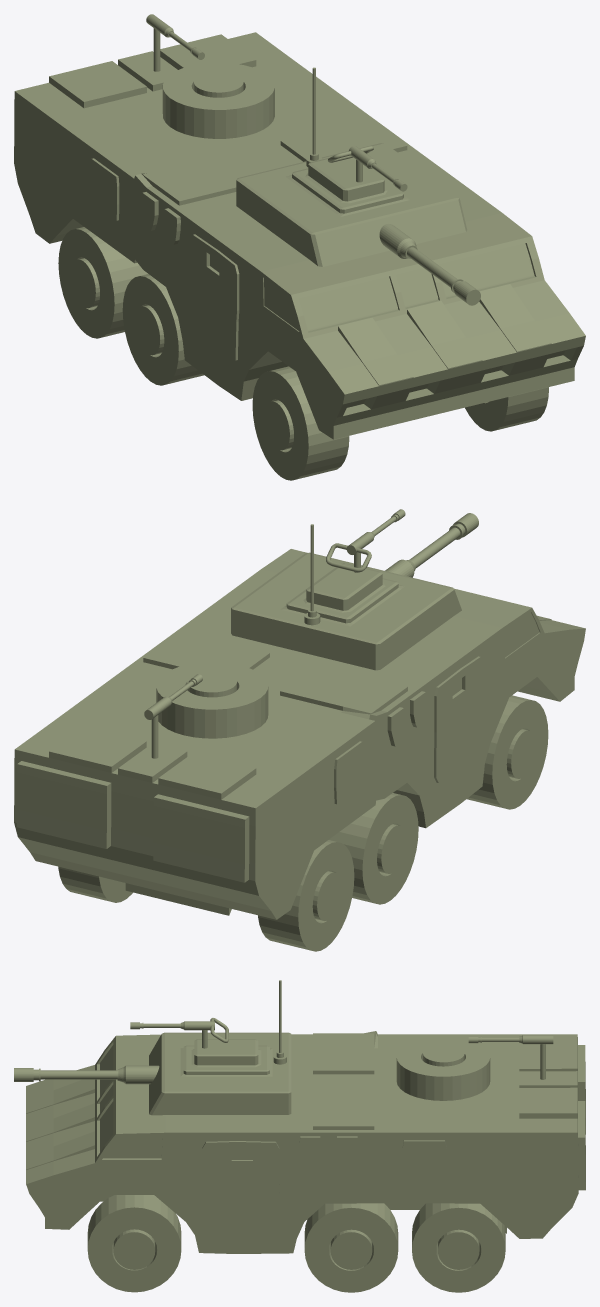
The model's file is ifv.glb.
3 views of the same model, one above another, from view 1: azimuth 30°, elevation 25°; view 2: azimuth 150°, elevation 25°; view 3: azimuth 270°, elevation 25° (orthographic). The views are drawn at different scales.
Parts seen in each view (by area): view 1: Cube, Cube.001, Plane, tire, Circle.005, Circle.003, Circle.004, Circle, Cylinder, wheel disk, Cylinder.039, Cylinder.040 (+3 smaller); view 2: Cube, Cube.001, tire, Circle.004, Circle.003, Circle.005, Circle.002, Cylinder, Cylinder.040, Cylinder.039, Cylinder.057, wheel disk (+4 smaller); view 3: Cube, Cube.001, Circle, Circle.001, Circle.002, tire, Cylinder, Cylinder.004, Cylinder.021, Cylinder.022, Plane.002, Plane (+3 smaller).
Boxes of the visible parts, <box> form: Cube: <box>14,32,585,439</box>; Cube.001: <box>236,143,467,266</box>; Plane: <box>299,243,532,329</box>; tire: <box>162,62,274,138</box>; Circle.005: <box>252,366,349,480</box>; Circle.003: <box>58,227,147,338</box>; Circle.004: <box>122,274,204,385</box>; Circle: <box>465,387,548,431</box>; Cylinder: <box>379,223,480,305</box>; wheel disk: <box>193,71,243,97</box>; Cylinder.039: <box>71,258,99,308</box>; Cylinder.040: <box>135,305,164,355</box>; Cube: <box>14,549,585,919</box>; Cube.001: <box>231,552,461,670</box>; tire: <box>156,662,268,738</box>; Circle.004: <box>329,793,418,904</box>; Circle.003: <box>258,840,354,951</box>; Circle.005: <box>466,695,548,809</box>; Circle.002: <box>58,866,132,902</box>; Cylinder: <box>385,513,478,577</box>; Cylinder.040: <box>377,824,406,873</box>; Cylinder.039: <box>312,871,341,920</box>; Cylinder.057: <box>506,729,535,778</box>; wheel disk: <box>187,671,236,697</box>; Cube: <box>26,1031,585,1253</box>; Cube.001: <box>149,1032,291,1115</box>; Circle: <box>87,1195,181,1292</box>; Circle.001: <box>304,1203,398,1292</box>; Circle.002: <box>412,1203,505,1292</box>; tire: <box>396,1037,490,1100</box>; Cylinder: <box>14,1065,159,1084</box>; Cylinder.004: <box>113,1229,155,1269</box>; Cylinder.021: <box>330,1229,372,1269</box>; Cylinder.022: <box>438,1229,479,1269</box>; Plane.002: <box>103,1136,162,1158</box>; Plane: <box>100,1045,113,1151</box>.
Size of the model in its own units: 1.21 by 1.47 by 2.88.
